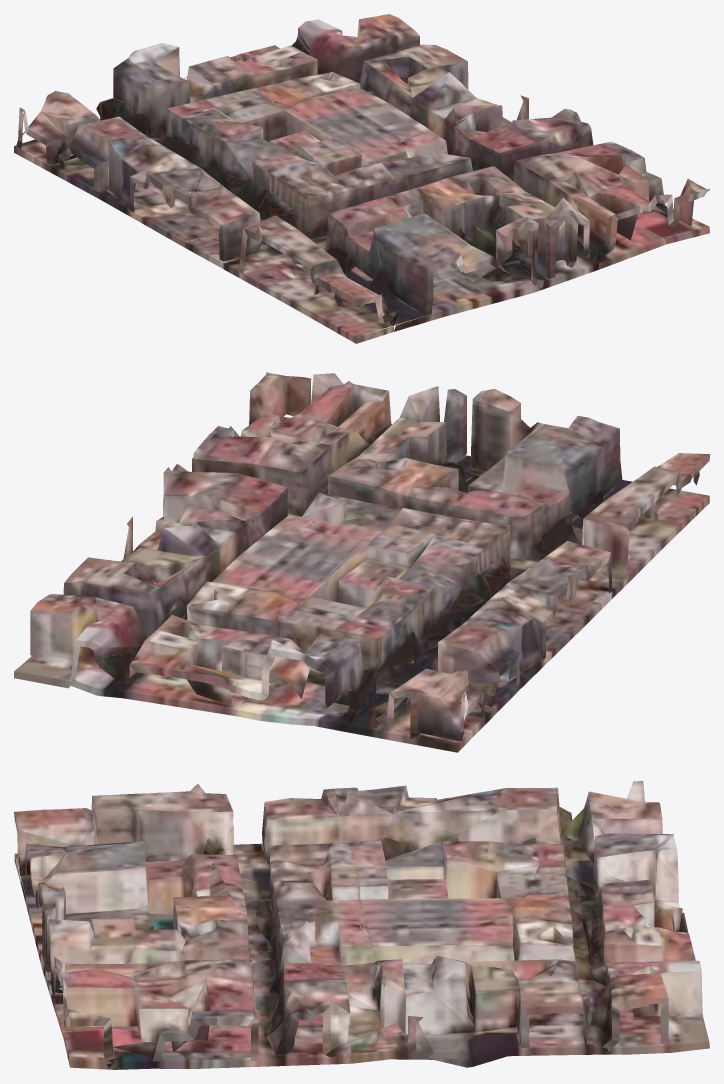
3 views of the same model, one above another, from view 1: azimuth 30°, elevation 25°; view 2: azimuth 150°, elevation 25°; view 3: azimuth 270°, elevation 25° (orthographic). The views are drawn at different scales.
Visible parts, largest first — view 1: Mesh_0; view 2: Mesh_0; view 3: Mesh_0.
Part boxes in pixels (left/top/right/bottom): Mesh_0: left=14, top=14, right=709, bottom=343; Mesh_0: left=14, top=372, right=709, bottom=752; Mesh_0: left=14, top=781, right=709, bottom=1069.
Bounding box in the file's own units: 266 × 49.69 × 330.
Materials: 1 (1 with a texture image).
